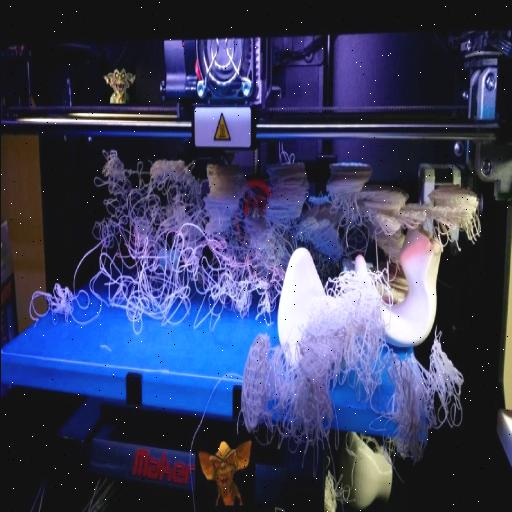spaghetti: (94, 152, 285, 320), (284, 283, 384, 461), (388, 343, 469, 454), (31, 264, 90, 344), (428, 203, 483, 253), (331, 188, 363, 238)
